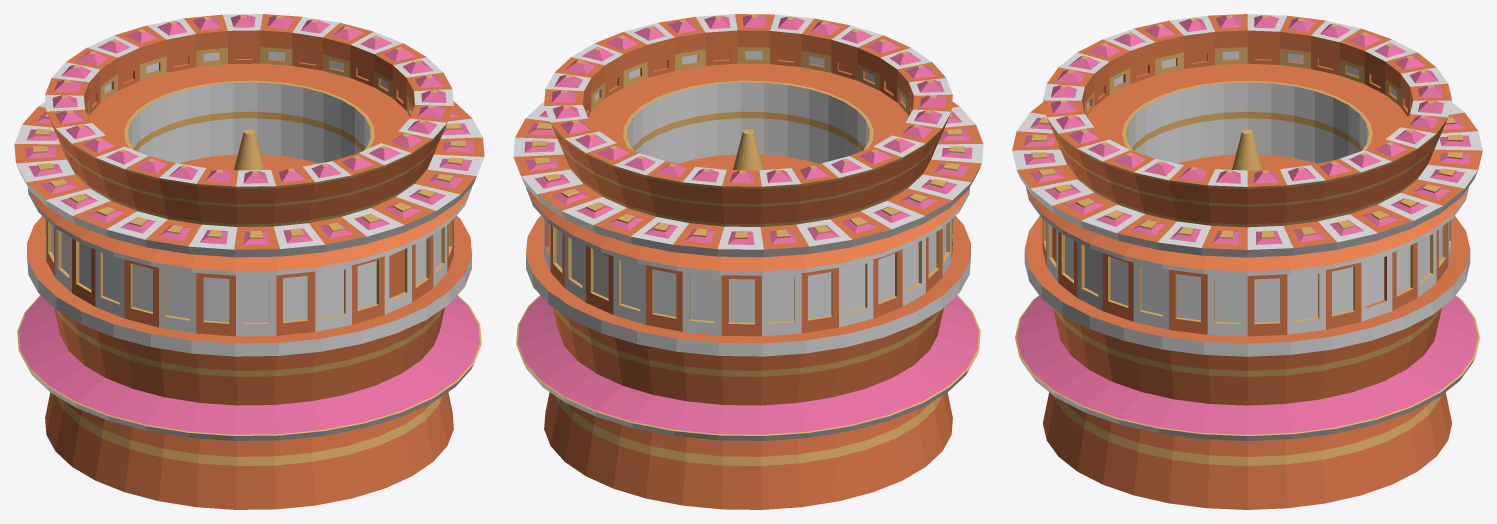
The model's file is Sfindruss.fbx.
3 views of the same model, side by side, from view 1: azimuth 30°, elevation 25°; view 2: azimuth 150°, elevation 25°; view 3: azimuth 270°, elevation 25° (orthographic).
Parts seen in each view (by area): view 1: edific.001; view 2: edific.001; view 3: edific.001.
Boxes of the visible parts, bbox=[...] form: edific.001: bbox=[14, 14, 484, 509]; edific.001: bbox=[513, 14, 983, 509]; edific.001: bbox=[1012, 14, 1482, 509].
Bounding box in the file's own units: 1004 × 775 × 1004.
